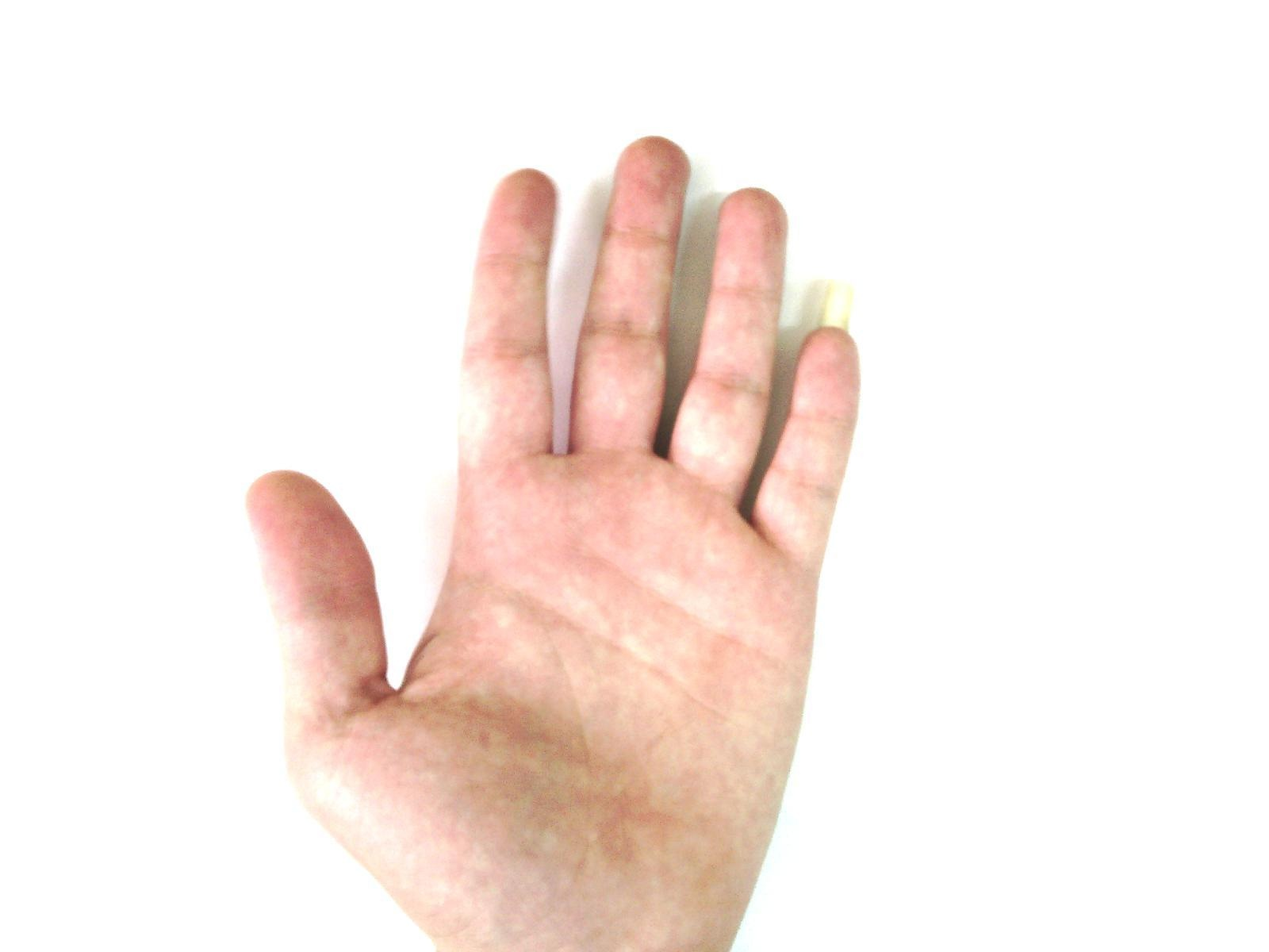open_palm: (243, 134, 865, 951)
